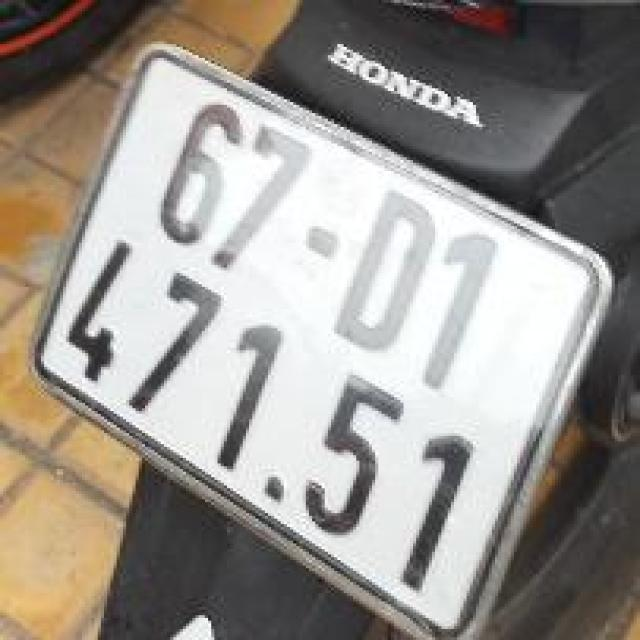1: (434, 220, 506, 402), (413, 427, 486, 596), (227, 323, 281, 477)
4: (79, 236, 135, 385)
5: (307, 362, 402, 544)
6: (131, 80, 244, 254)
7: (218, 122, 315, 308), (128, 262, 222, 452)
D: (337, 182, 432, 359)
